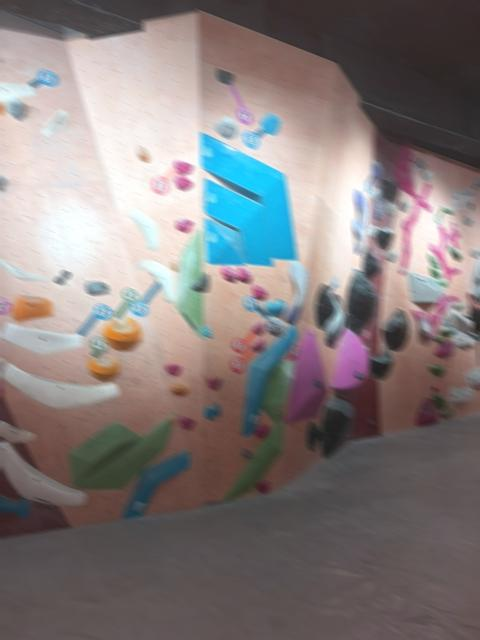crimp: (2, 362, 119, 408), (0, 322, 82, 353), (0, 258, 45, 280), (0, 82, 36, 101), (43, 110, 68, 135), (215, 67, 236, 84), (85, 281, 109, 295), (204, 402, 222, 419), (135, 259, 147, 269)
downhold: (215, 117, 238, 138), (6, 98, 27, 119)
jib: (171, 383, 190, 395), (241, 449, 252, 458), (53, 276, 65, 284), (61, 270, 71, 278)
jug: (284, 260, 309, 324), (354, 189, 368, 231), (351, 217, 365, 255), (260, 113, 280, 134), (266, 316, 287, 334), (265, 298, 287, 315), (174, 176, 193, 189), (222, 265, 237, 281), (236, 266, 252, 281), (252, 284, 268, 299), (176, 218, 193, 232), (174, 161, 192, 174), (206, 377, 222, 389), (179, 416, 195, 428), (165, 364, 182, 374)
ledge: (200, 133, 297, 258), (75, 412, 177, 487), (205, 179, 272, 264), (0, 441, 85, 504), (223, 413, 284, 500), (206, 219, 246, 264), (103, 318, 142, 349), (88, 356, 120, 381), (121, 440, 123, 440)
pinch: (190, 273, 210, 291), (135, 145, 150, 161), (170, 257, 178, 271)
pocket: (203, 325, 212, 337)
sidepull: (241, 326, 298, 436), (262, 360, 295, 421), (144, 260, 175, 301), (129, 209, 159, 250)
tape: (77, 303, 112, 335), (228, 83, 253, 124), (130, 282, 161, 315), (114, 288, 139, 318), (151, 168, 178, 194), (232, 348, 255, 372), (243, 296, 268, 318), (29, 69, 58, 86), (243, 128, 266, 148), (232, 332, 255, 352), (90, 335, 108, 358), (288, 343, 299, 359), (365, 174, 374, 192), (328, 275, 338, 291), (242, 111, 244, 111)
volume: (287, 329, 328, 423), (176, 230, 203, 339), (331, 328, 369, 392)
